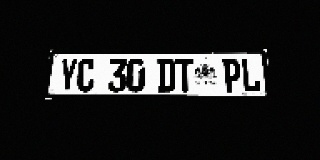0: (126, 59, 145, 92)
3: (108, 59, 127, 92)
C: (76, 59, 96, 92)
D: (157, 58, 175, 92)
L: (241, 58, 261, 92)
P: (222, 58, 242, 92)
T: (176, 58, 194, 92)
Y: (58, 59, 78, 92)
